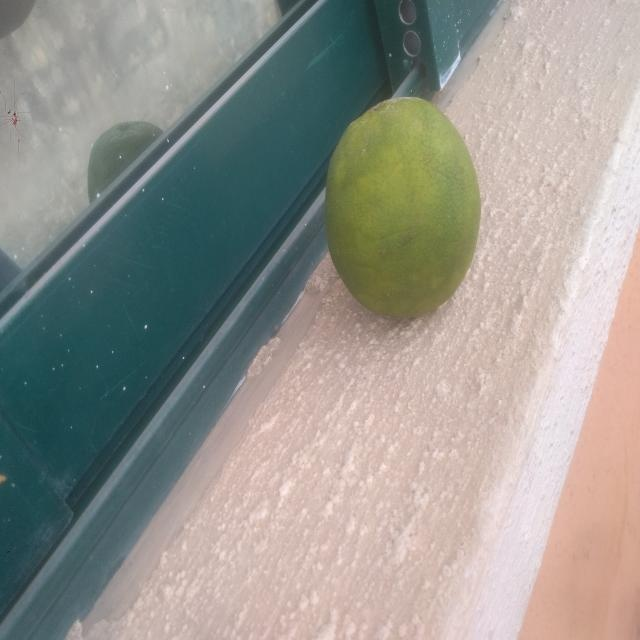agrume: (293, 61, 519, 355)
